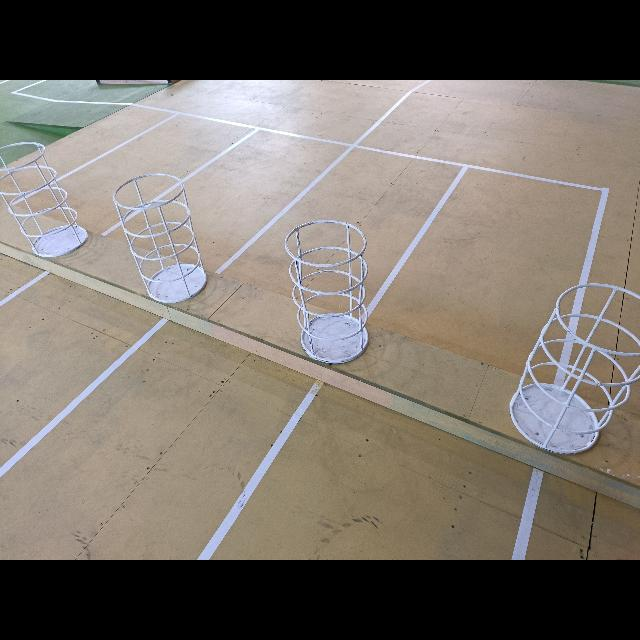S: (507, 282, 640, 455), (108, 167, 209, 305), (281, 220, 371, 365), (0, 138, 90, 259)
